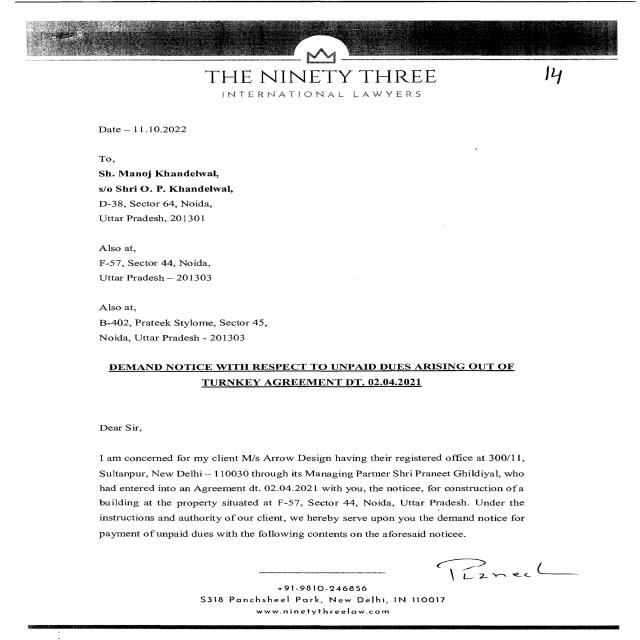page-number: (480, 59, 640, 115)
